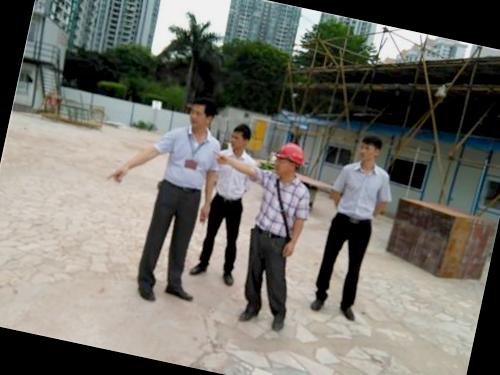no_helmet: (182, 91, 223, 135), (351, 129, 388, 166), (224, 118, 256, 154)
